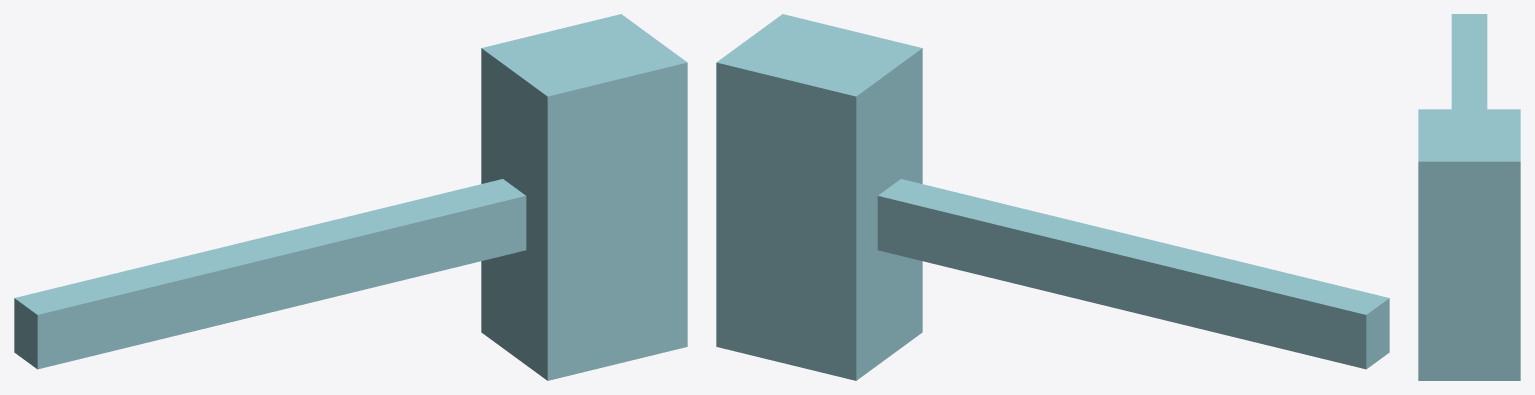
File: cuboid_hammer_v016.obj
3 views of the same model, side by side, from view 1: azimuth 30°, elevation 25°; view 2: azimuth 150°, elevation 25°; view 3: azimuth 270°, elevation 25° (orthographic). The views are drawn at different scales.
Size of the model in its own units: 0.2627 by 0.1136 by 0.048.
1 material, 1 textured.
